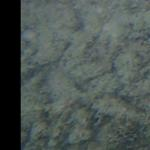dead: (21, 1, 149, 148)
